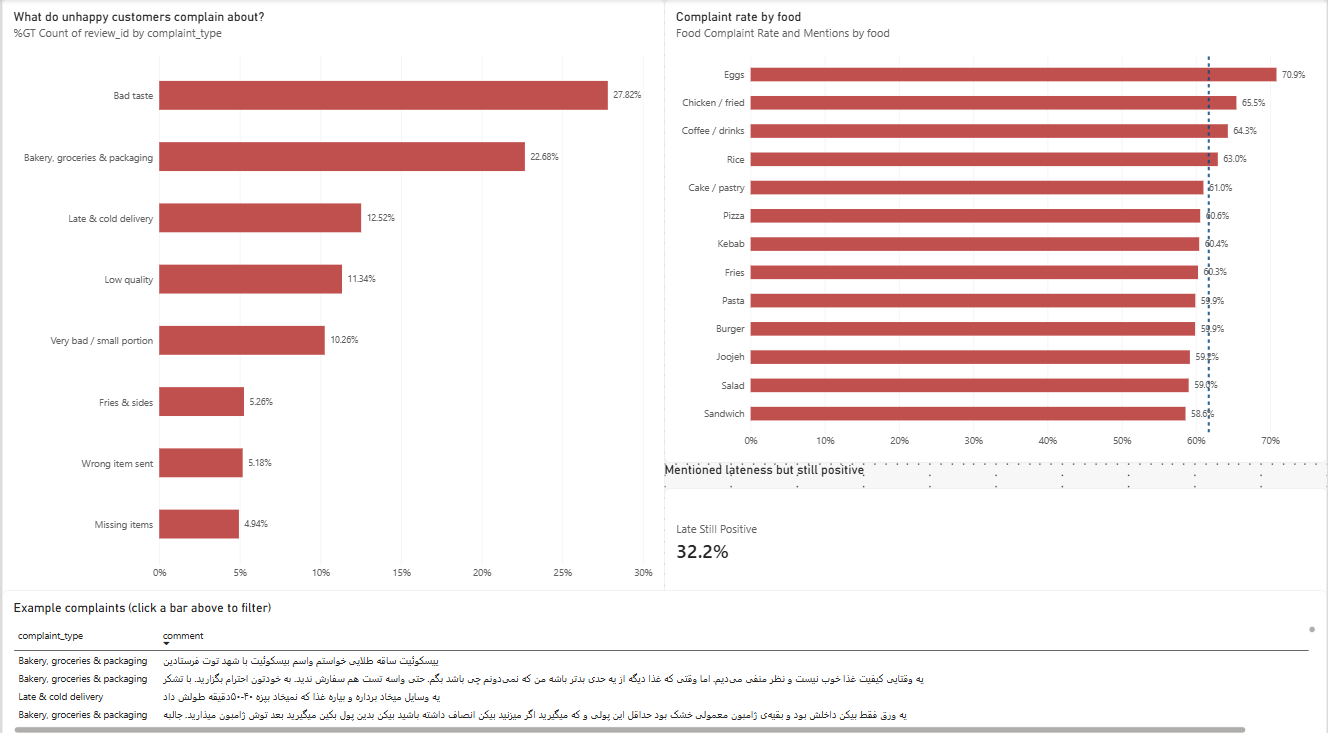

What the dashboard file says about the page in this screenshot:
{"tool":"powerbi","page":{"name":"Complaints","canvas":[1920,1080],"ordinal":1},"visuals":[{"type":"clusteredBarChart","title":"What do unhappy customers complain about?","fields":{"Category":["reviews.complaint_type"],"Y":["CountNonNull(reviews.review_id)"]},"box":[0,0,960,864],"z":0},{"type":"clusteredBarChart","title":"Complaint rate by food","fields":{"Category":["food_mentions.food"],"Y":["food_mentions.Food Complaint Rate"]},"box":[960,0,960,672],"z":1000},{"type":"cardVisual","title":"Mentioned lateness but still positive","fields":{"Data":["reviews.Late Still Positive"]},"box":[960,672,960,192],"z":2000},{"type":"tableEx","title":"Example complaints (click a bar above to filter)","fields":{"Values":["reviews.complaint_type","reviews.comment"]},"box":[0,856,1920,224],"z":3000}]}

Visuals, with their boxes in screenshot pixels (x1, y1, x2, y2), scaled from the page's 1920x1080 canvas onto the 1328x733 screenshot:
"What do unhappy customers complain about?" clusteredBarChart: bbox=(0, 0, 664, 586)
"Complaint rate by food" clusteredBarChart: bbox=(664, 0, 1327, 456)
"Mentioned lateness but still positive" cardVisual: bbox=(664, 456, 1327, 586)
"Example complaints (click a bar above to filter)" tableEx: bbox=(0, 581, 1327, 732)
